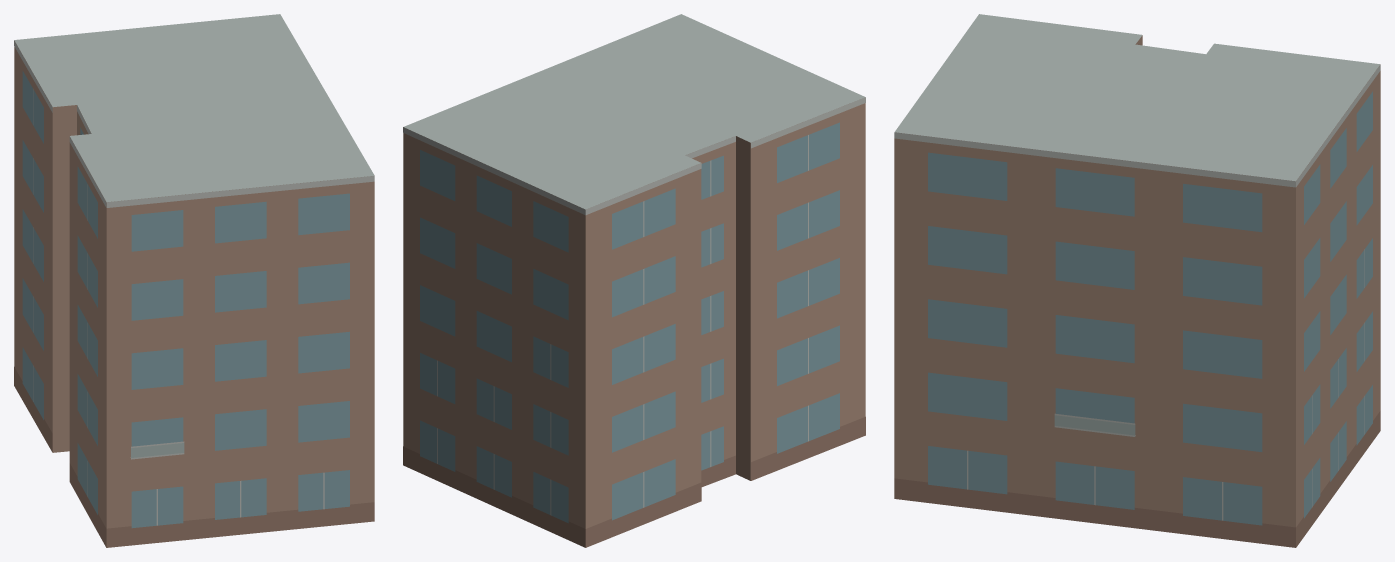
Rendered from survey-upis-32995232.glb.
3 views of the same model, side by side, from view 1: azimuth 30°, elevation 25°; view 2: azimuth 150°, elevation 25°; view 3: azimuth 270°, elevation 25° (orthographic). The views are drawn at different scales.
Visible parts, largest first — view 1: survey-upis-32995232.tmp; view 2: survey-upis-32995232.tmp; view 3: survey-upis-32995232.tmp.
Part boxes in pixels (bbox=[...]): survey-upis-32995232.tmp: bbox=[14, 14, 374, 547]; survey-upis-32995232.tmp: bbox=[403, 14, 865, 547]; survey-upis-32995232.tmp: bbox=[894, 14, 1380, 547].
Bounding box in the file's own units: 14 × 14.3 × 17.19.
